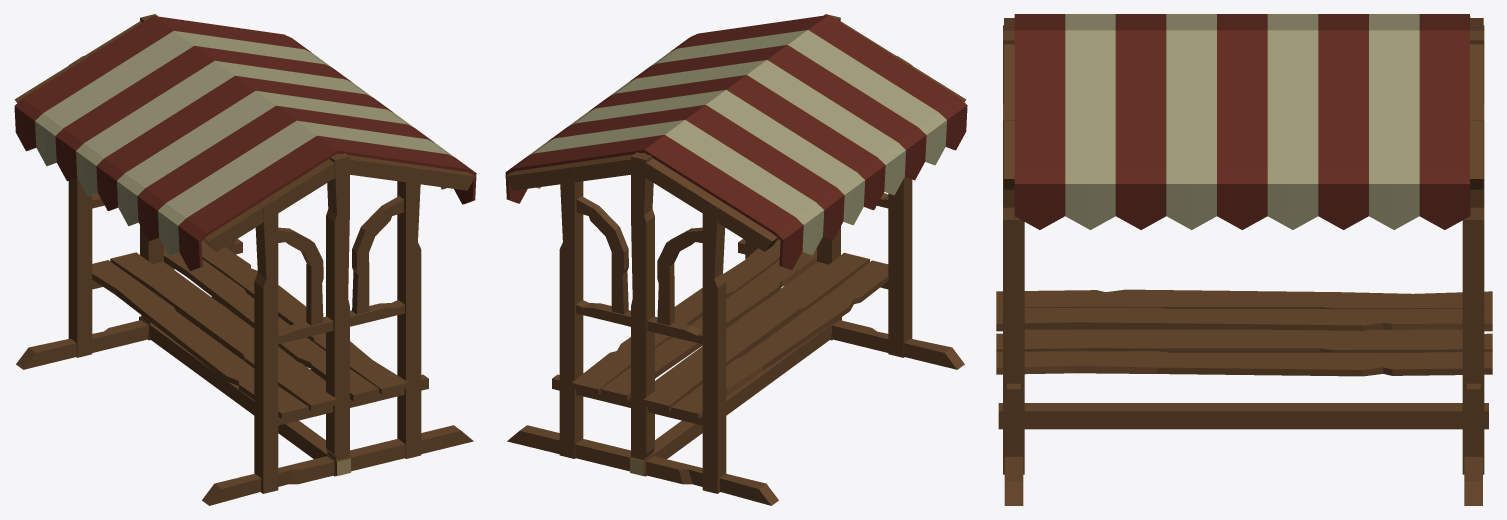
Rendered from MarketStand_1.gltf.
3 renders of one model, left to right at view 1: azimuth 30°, elevation 25°; view 2: azimuth 150°, elevation 25°; view 3: azimuth 270°, elevation 25°, orthographic. The views are drawn at different scales.
Parts seen in each view (by area): view 1: MarketStand_1; view 2: MarketStand_1; view 3: MarketStand_1.
Part boxes in pixels (bbox=[...]): MarketStand_1: bbox=[14, 14, 476, 505]; MarketStand_1: bbox=[505, 14, 967, 505]; MarketStand_1: bbox=[996, 14, 1492, 505].
Bounding box in the file's own units: 0.9509 × 1.05 × 1.19.
